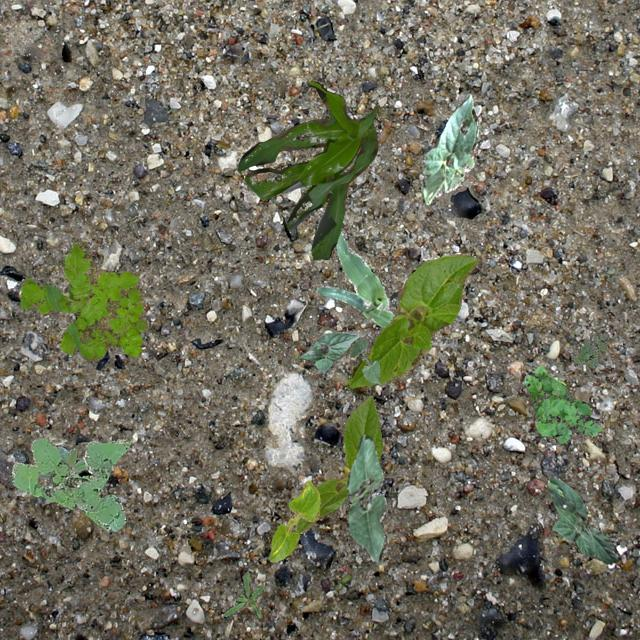crop: (236, 80, 378, 258), (348, 252, 477, 388), (294, 394, 382, 532), (316, 226, 394, 328), (546, 474, 618, 564), (420, 94, 478, 204), (346, 433, 386, 562), (268, 480, 318, 560), (300, 330, 358, 372), (348, 337, 379, 382)
weed: (20, 240, 146, 360), (10, 436, 130, 530), (524, 364, 604, 444), (36, 444, 86, 486), (222, 570, 264, 616), (572, 332, 608, 367)
